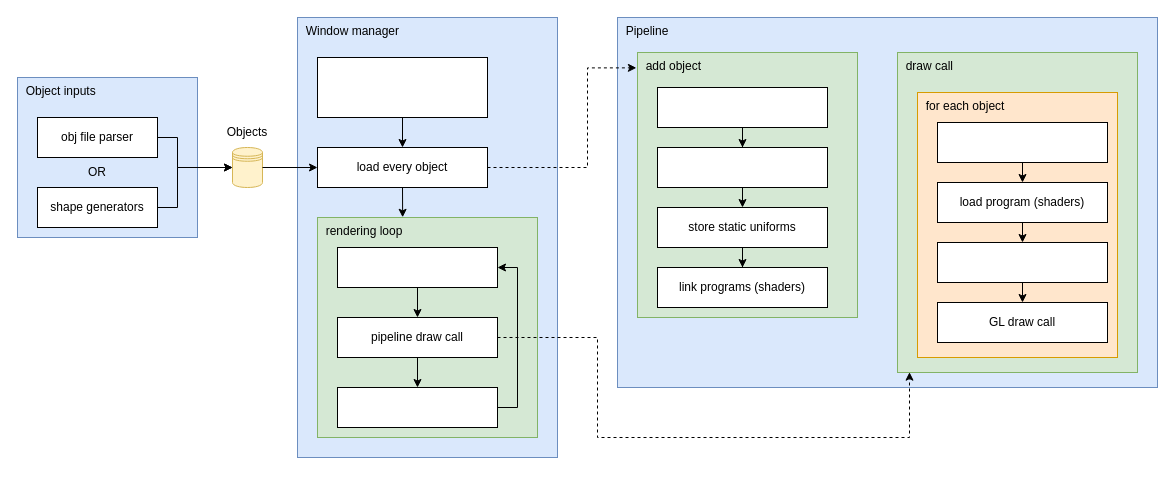
The diagram is 1175 pixels wide and 485 high, and some of its shapes have lost their labels. The centre of each missing label's shape, as x and y in pixels:
bind corresponding VAO: the point at 1022,142
check data validity/format: the point at 742,107
create GL context and GLFW window: the point at 402,87
create VAO and add VBOs/EBO: the point at 742,167
display results: the point at 417,407
update dynamic uniforms: the point at 417,267
upload uniforms: the point at 1022,262
